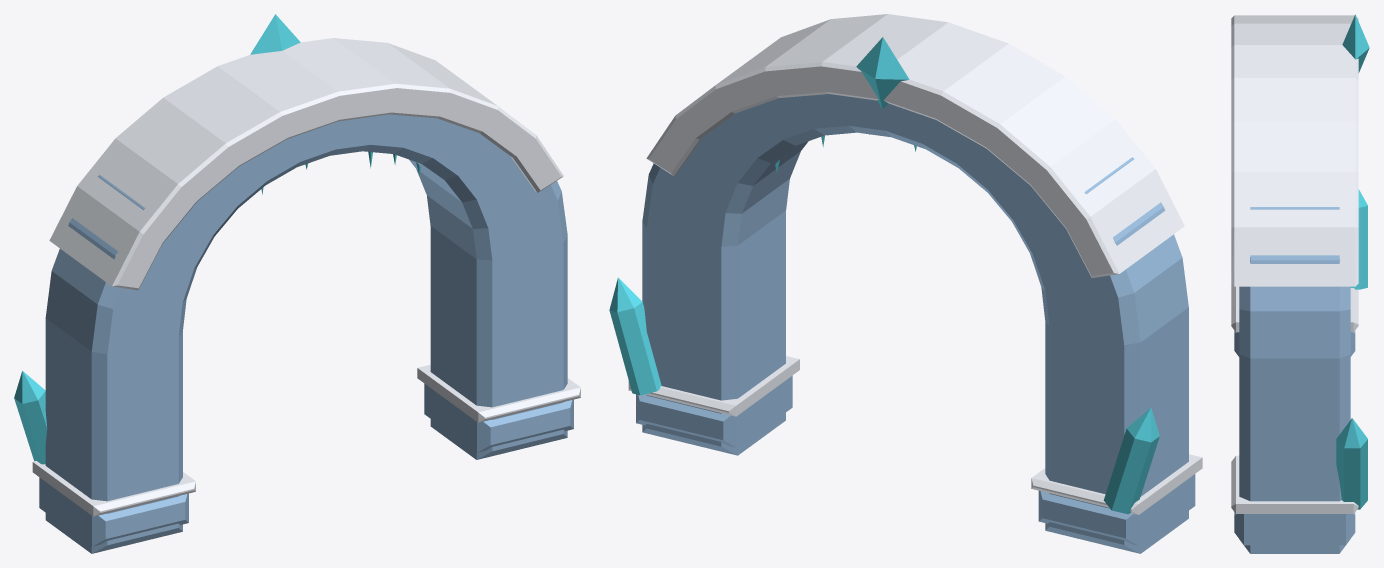
The model's file is FROZEN_ICE_ARCH.glb.
3 renders of one model, left to right at view 1: azimuth 30°, elevation 25°; view 2: azimuth 150°, elevation 25°; view 3: azimuth 270°, elevation 25°, orthographic. The views are drawn at different scales.
Visible parts, largest first — view 1: Ice, Snow, IceGlow; view 2: Ice, Snow, IceGlow; view 3: Snow, Ice, IceGlow.
Part boxes in pixels (x1,y1,x2,y2): Ice: (39, 114, 573, 553); Snow: (32, 38, 580, 516); IceGlow: (14, 14, 420, 464); Ice: (636, 94, 1195, 553); Snow: (628, 14, 1202, 514); IceGlow: (609, 37, 1159, 514); Snow: (1231, 15, 1358, 513); Ice: (1234, 207, 1355, 553); IceGlow: (1336, 14, 1369, 509).
Bounding box in the file's own units: 16 × 13.05 × 3.83.
